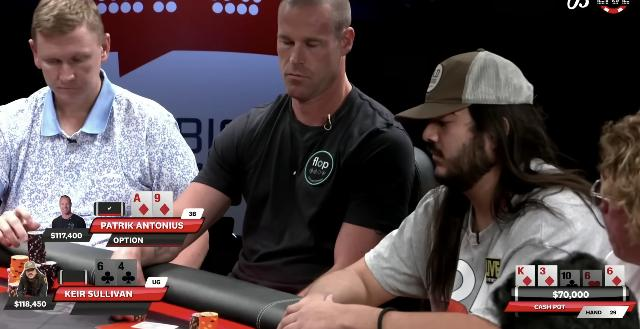10C: (561, 271, 579, 287)
3D: (539, 267, 557, 287)
4C: (118, 262, 136, 286)
6C: (96, 261, 114, 285)
6D: (606, 267, 624, 287)
6H: (584, 271, 602, 287)
9D: (154, 194, 172, 216)
AD: (132, 193, 152, 217)
KD: (516, 267, 534, 287)
